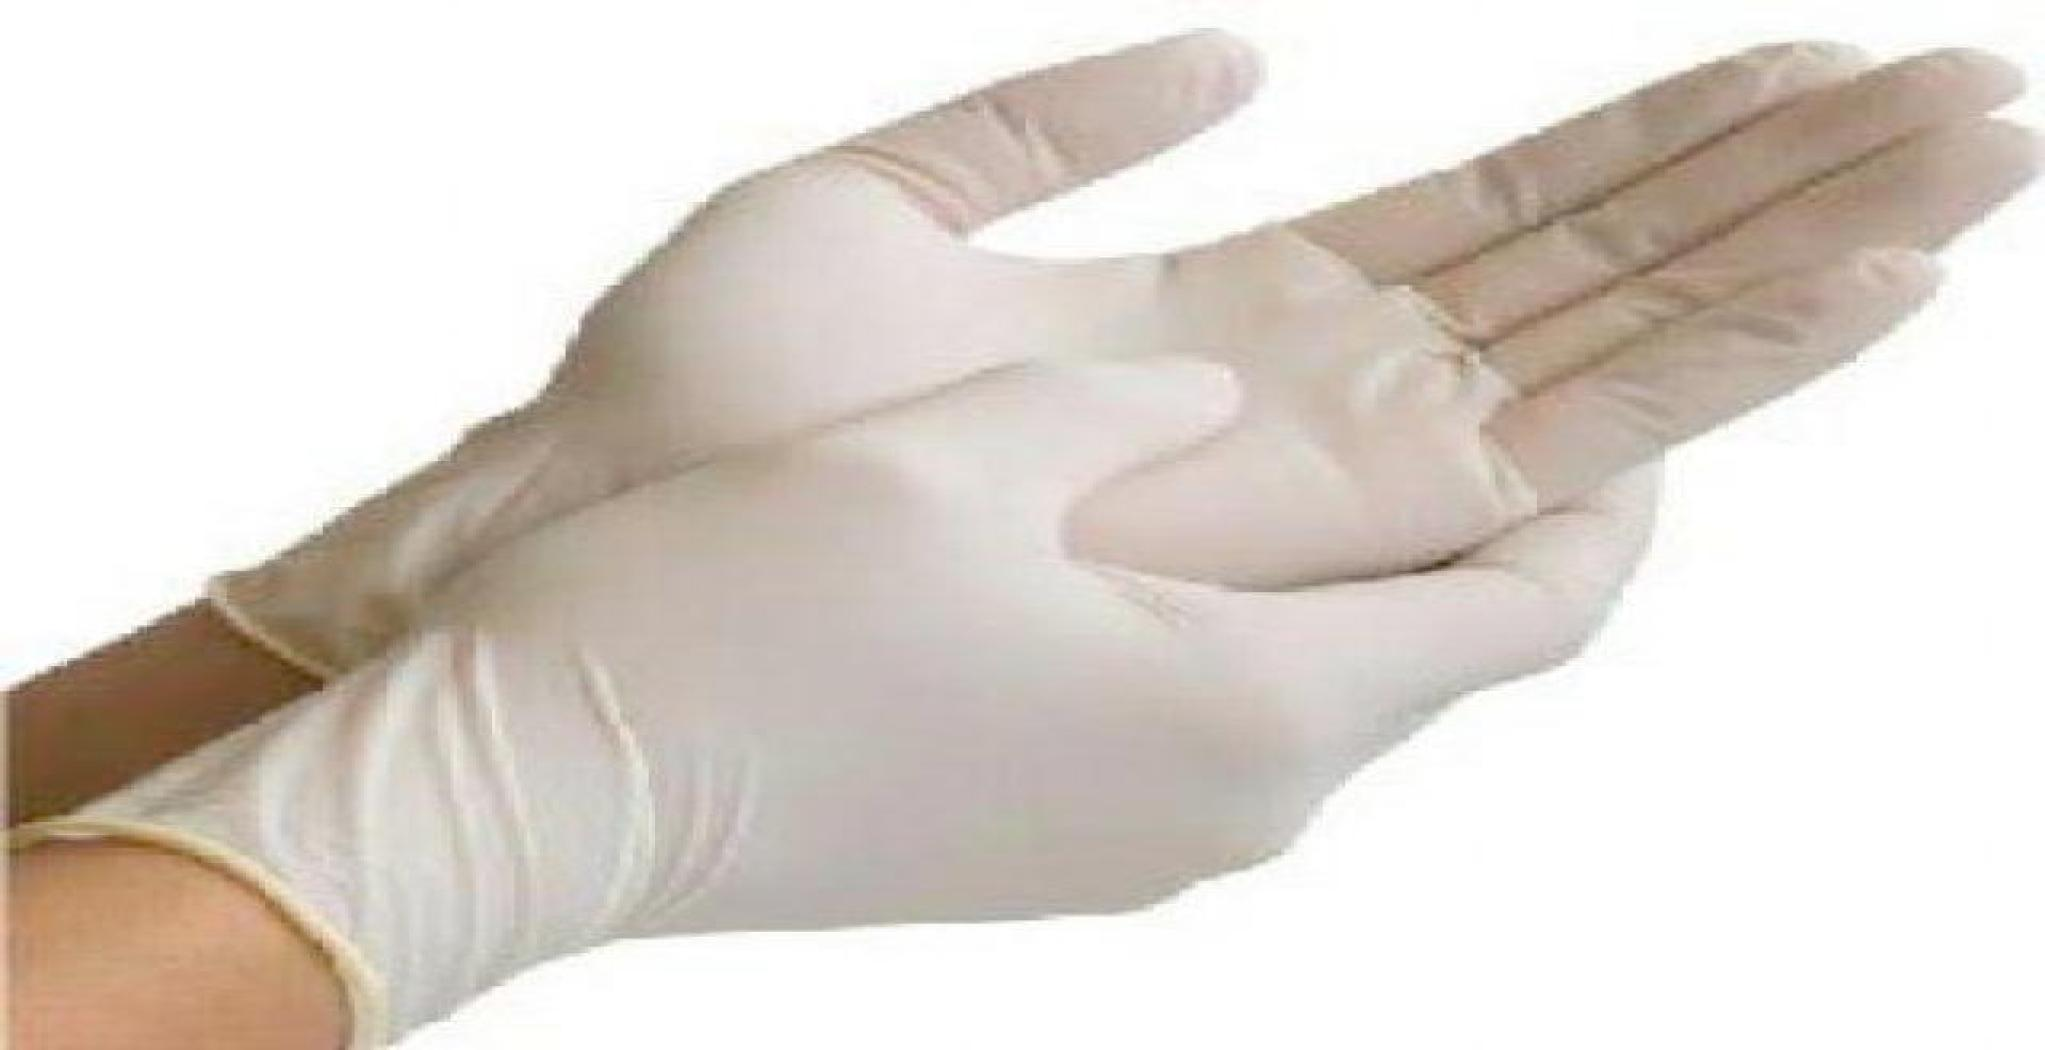gloved: (170, 5, 2032, 553), (173, 398, 1815, 990)
